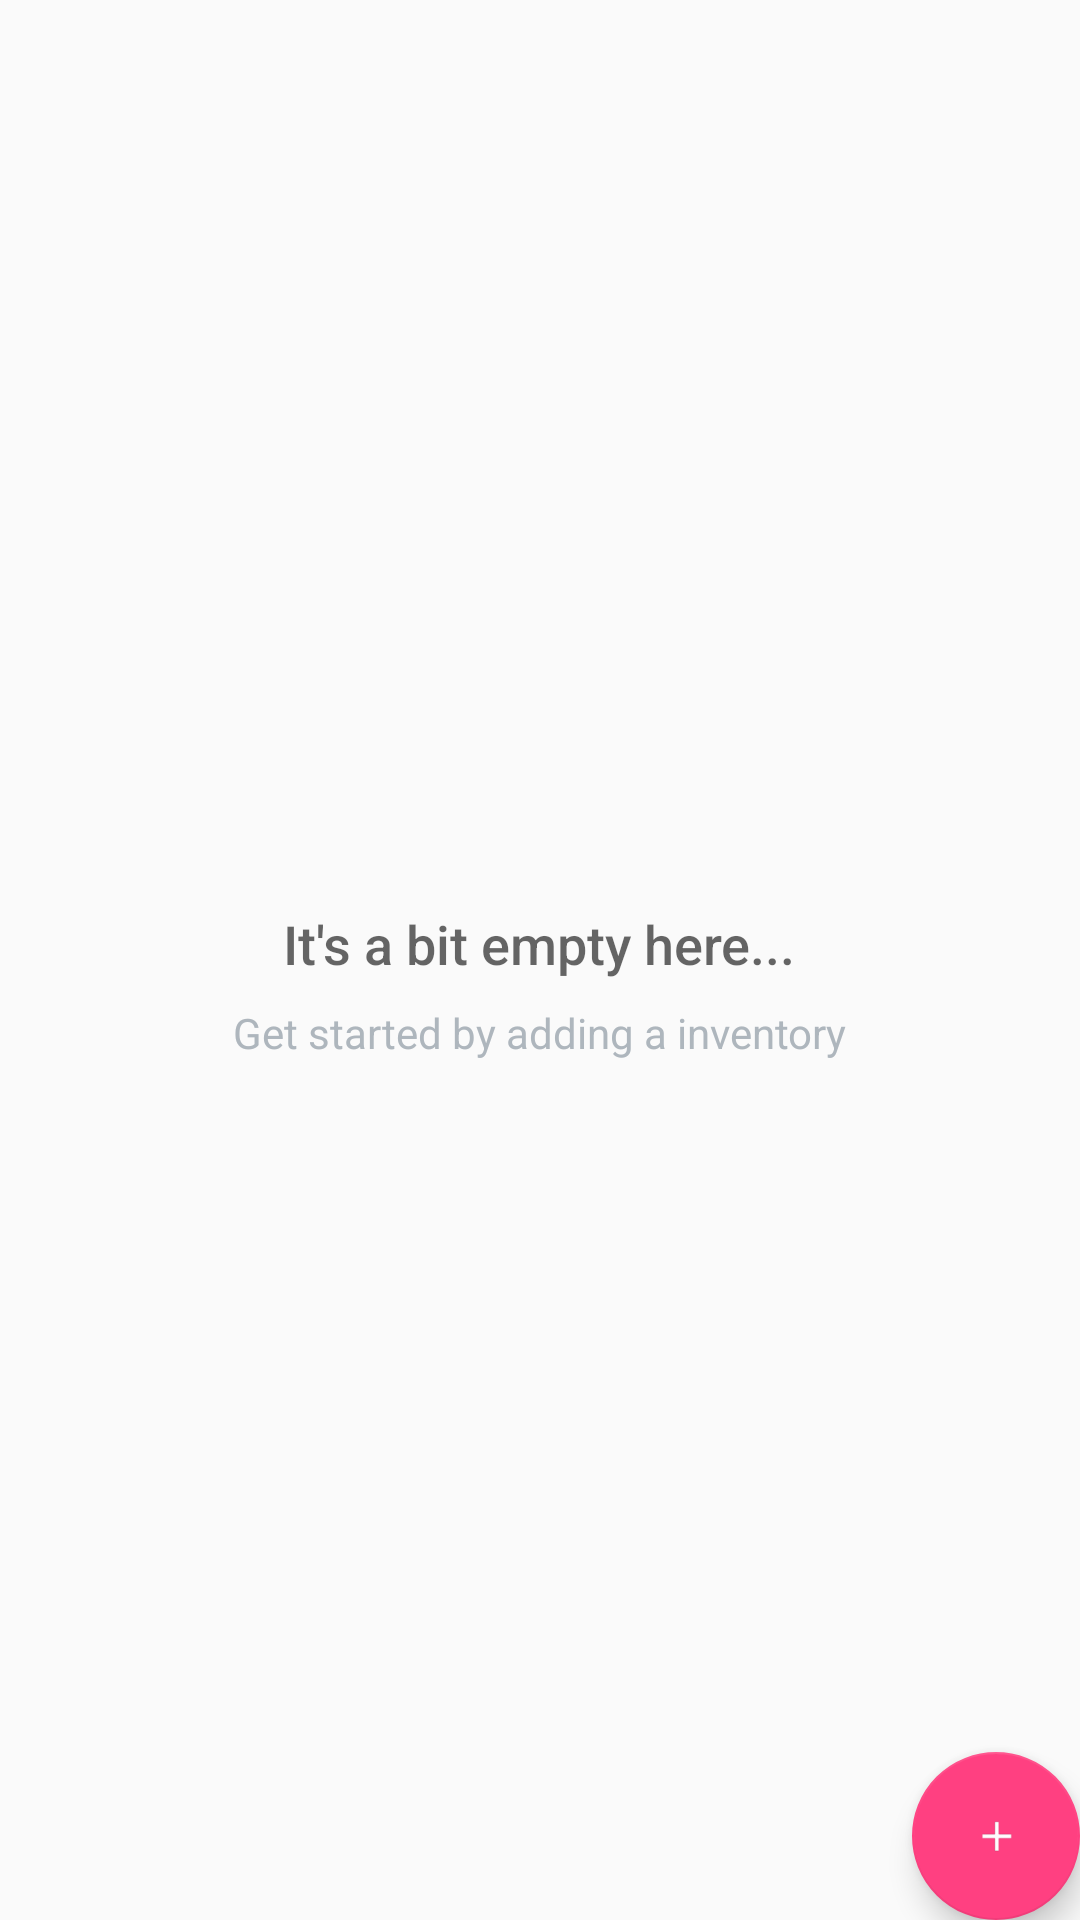

Screen size 1080x1920. Icon name, then its box in pixels as Rect(x1, y1, x2, y2):
add inventory: Rect(912, 1752, 1080, 1920)
